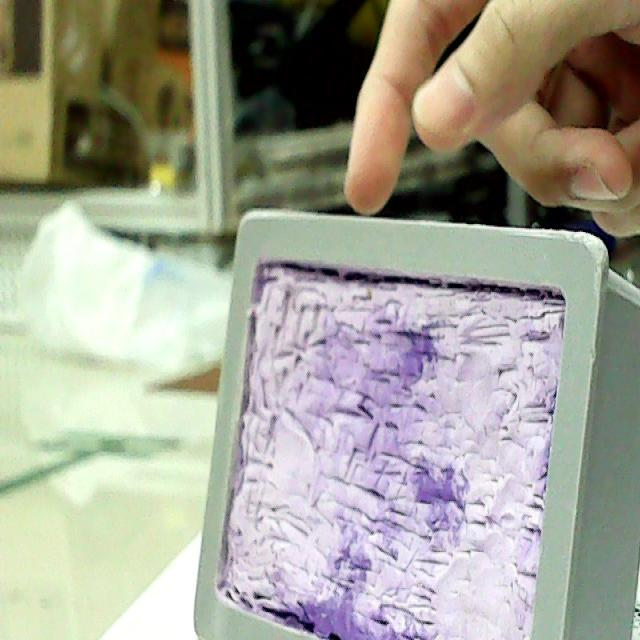block: (186, 207, 636, 638)
